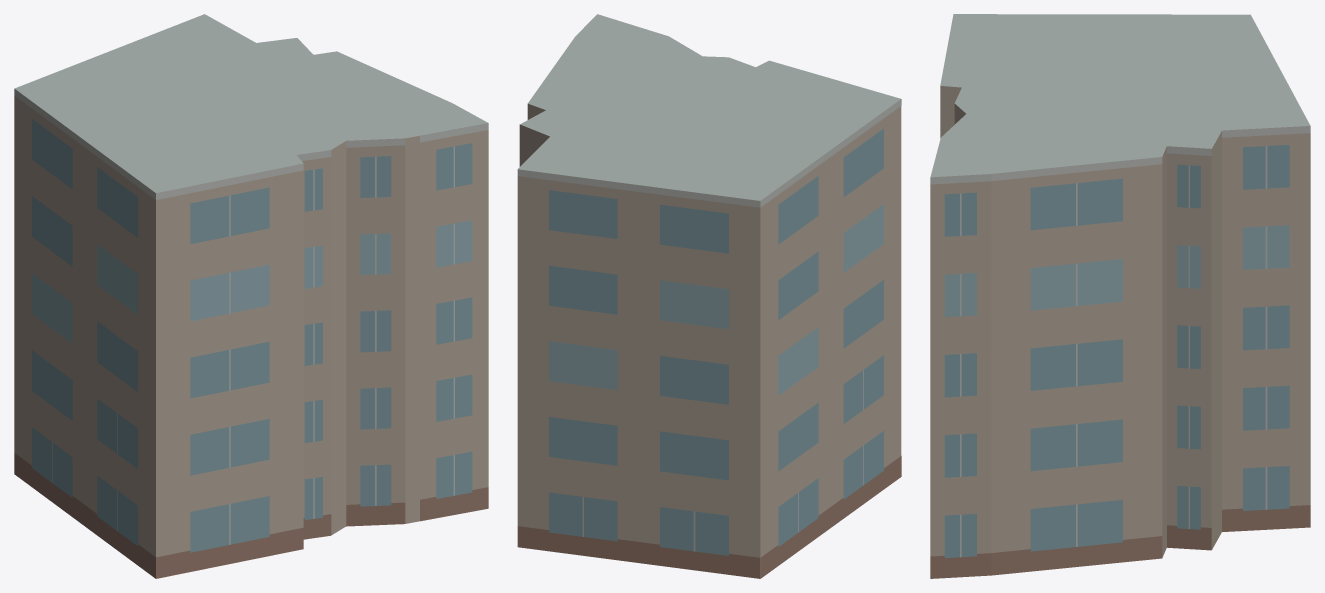
File: survey-upis-32681870.glb
3 views of the same model, side by side, from view 1: azimuth 30°, elevation 25°; view 2: azimuth 150°, elevation 25°; view 3: azimuth 270°, elevation 25° (orthographic). The views are drawn at different scales.
Visible parts, largest first — view 1: survey-upis-32681870.tmp; view 2: survey-upis-32681870.tmp; view 3: survey-upis-32681870.tmp.
Boxes of the visible parts, box(x1,y1,x2,y2) form: survey-upis-32681870.tmp: box(14, 14, 488, 578); survey-upis-32681870.tmp: box(517, 14, 901, 578); survey-upis-32681870.tmp: box(930, 14, 1310, 578).
Bounding box in the file's own units: 11.88 × 13.61 × 11.69.
